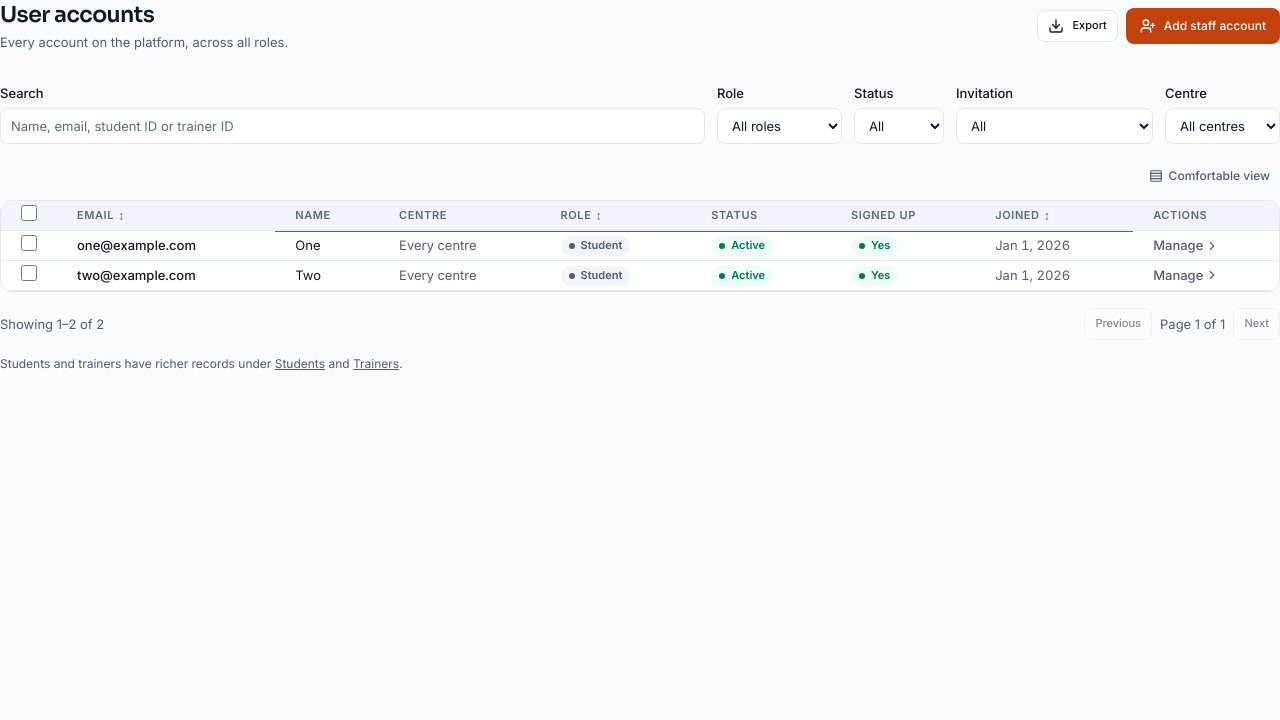
it: AdminUsersPage — acting on many accounts › resends invitations to the ticked accounts and says which were skipped and why
expect the text "one@example.com" is shown: met, box [77, 237, 196, 253]
Step 1. Click the checkbox named "Select One" → (29, 243), box [21, 235, 37, 251]
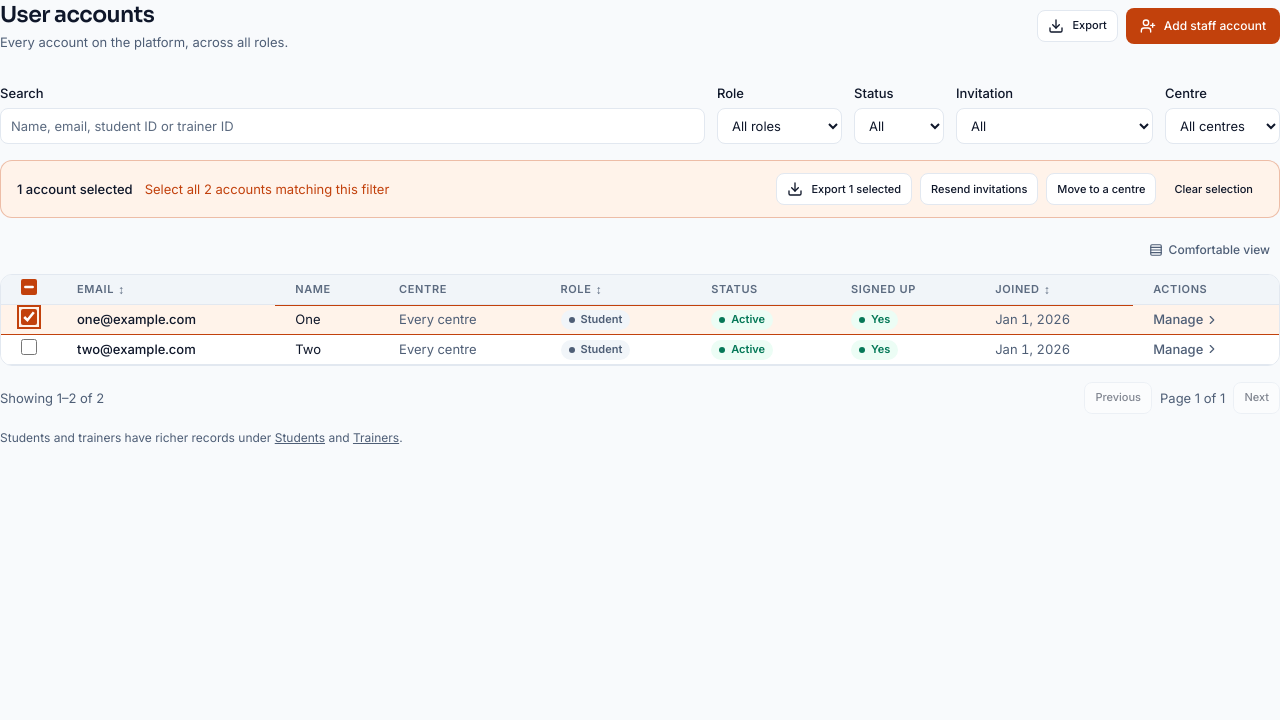
Step 2. Click the checkbox named "Select Two" → (29, 347), box [21, 339, 37, 355]
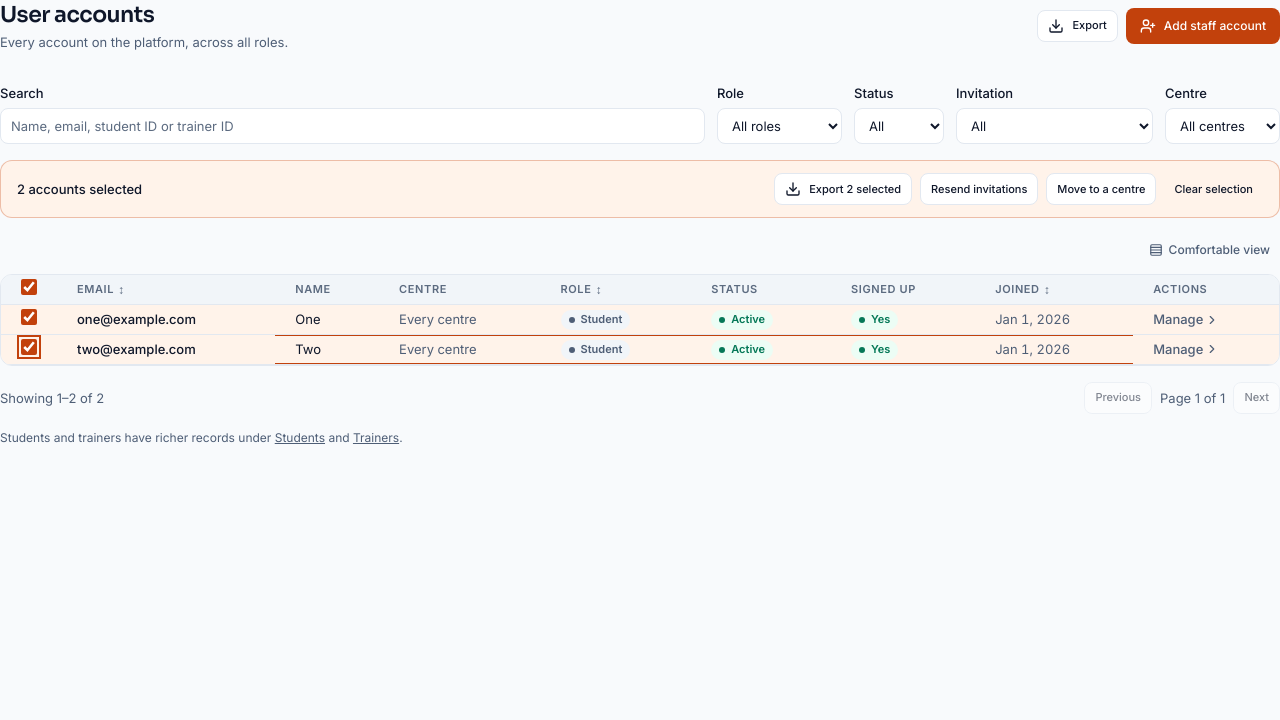
expect the element named "Bulk actions" shows "2 accounts selected": met, box [17, 181, 142, 197]
Step 3. Click the button "Resend invitations" → (979, 190), box [920, 174, 1038, 206]
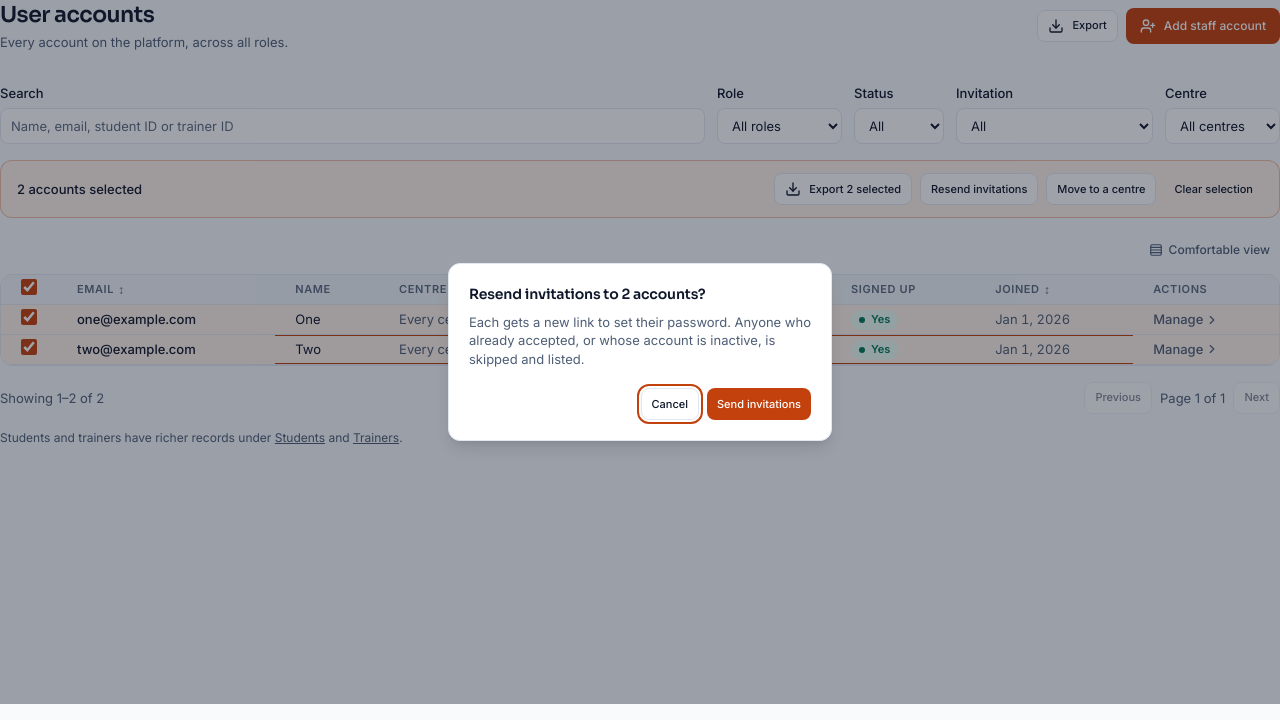
Step 4. Click the button "Send invitations" → (759, 404), box [707, 388, 811, 420]
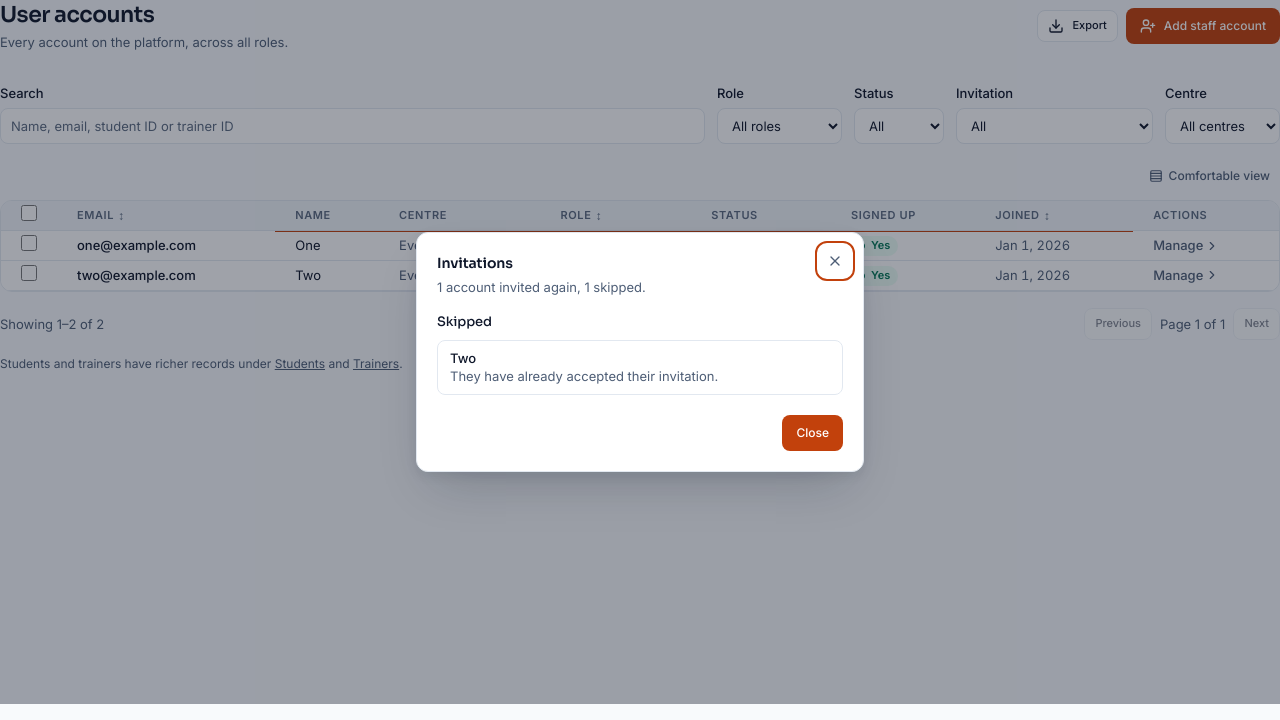
expect the dialog "Invitations" shows "1 account invited again, 1 skipped": met, box [437, 279, 646, 295]
expect the dialog "Invitations" shows "They have already accepted their invitation.": met, box [450, 368, 718, 384]
